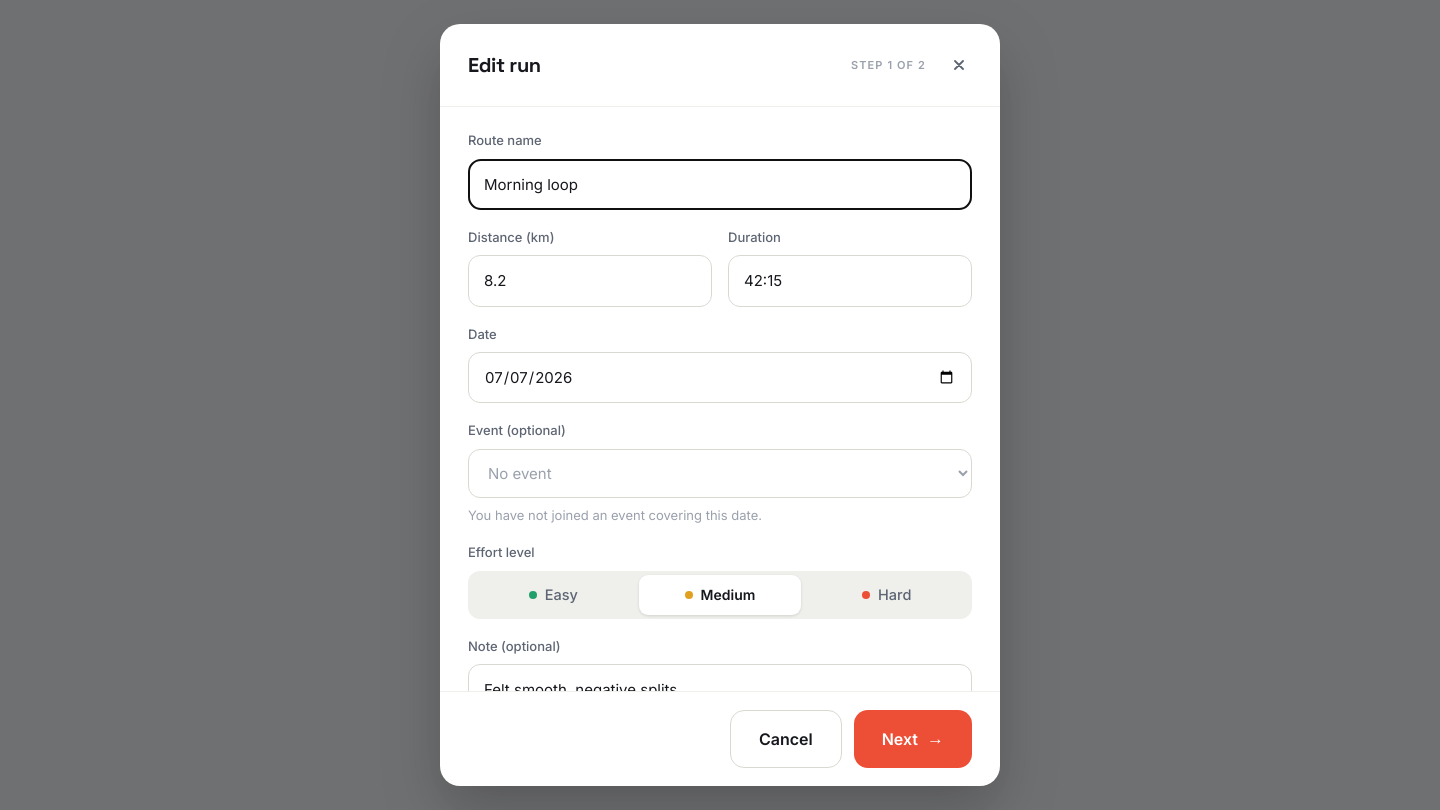
Scenario: Edit run modal (RUN-28) › refuses to save distance 0 and says so inline (AC4, EDT-3)
Replace the text in the field labelled "Distance (km)" with "0" at [590, 281], box [468,255,712,307]
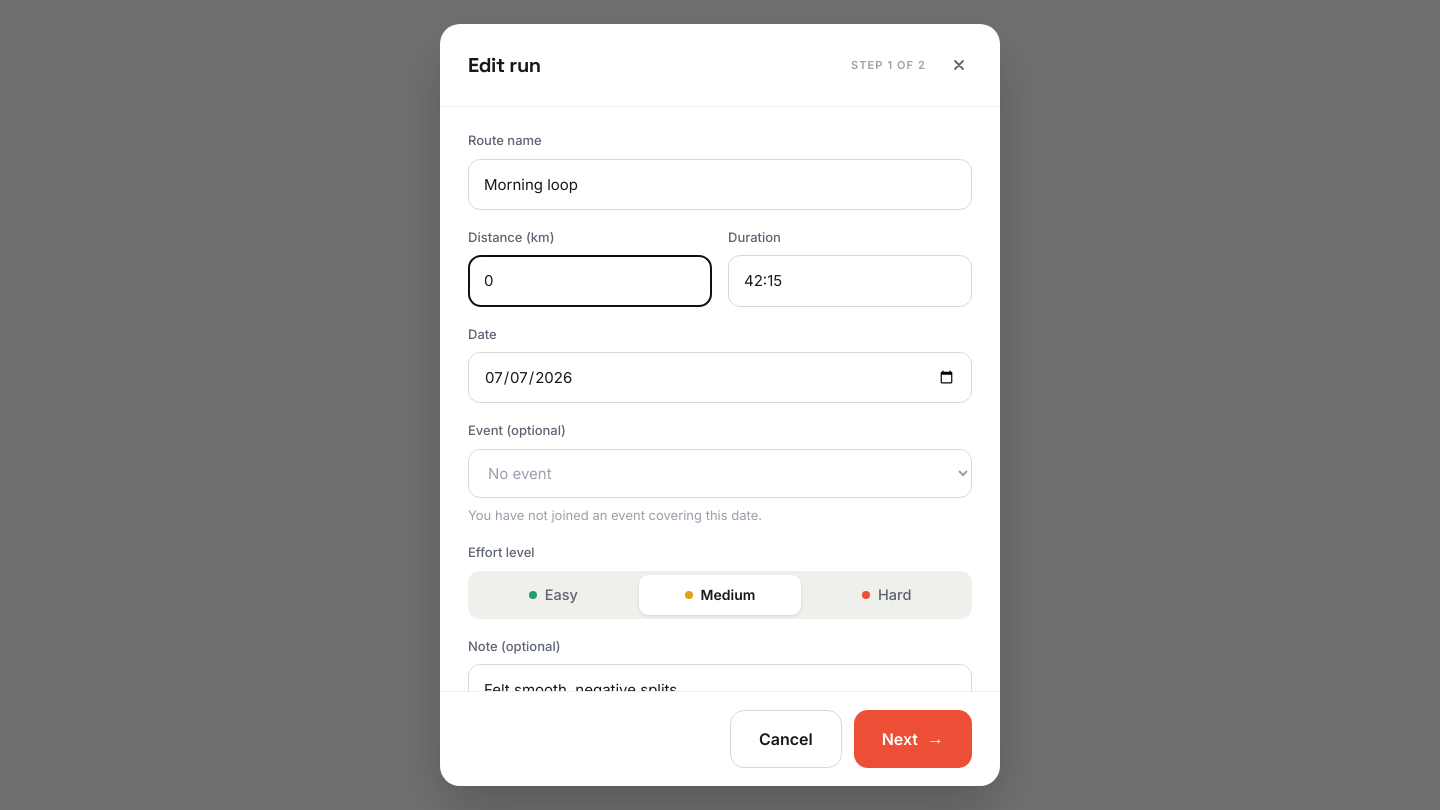
Click the button "Next →" at [913, 739], box [854,710,972,768]
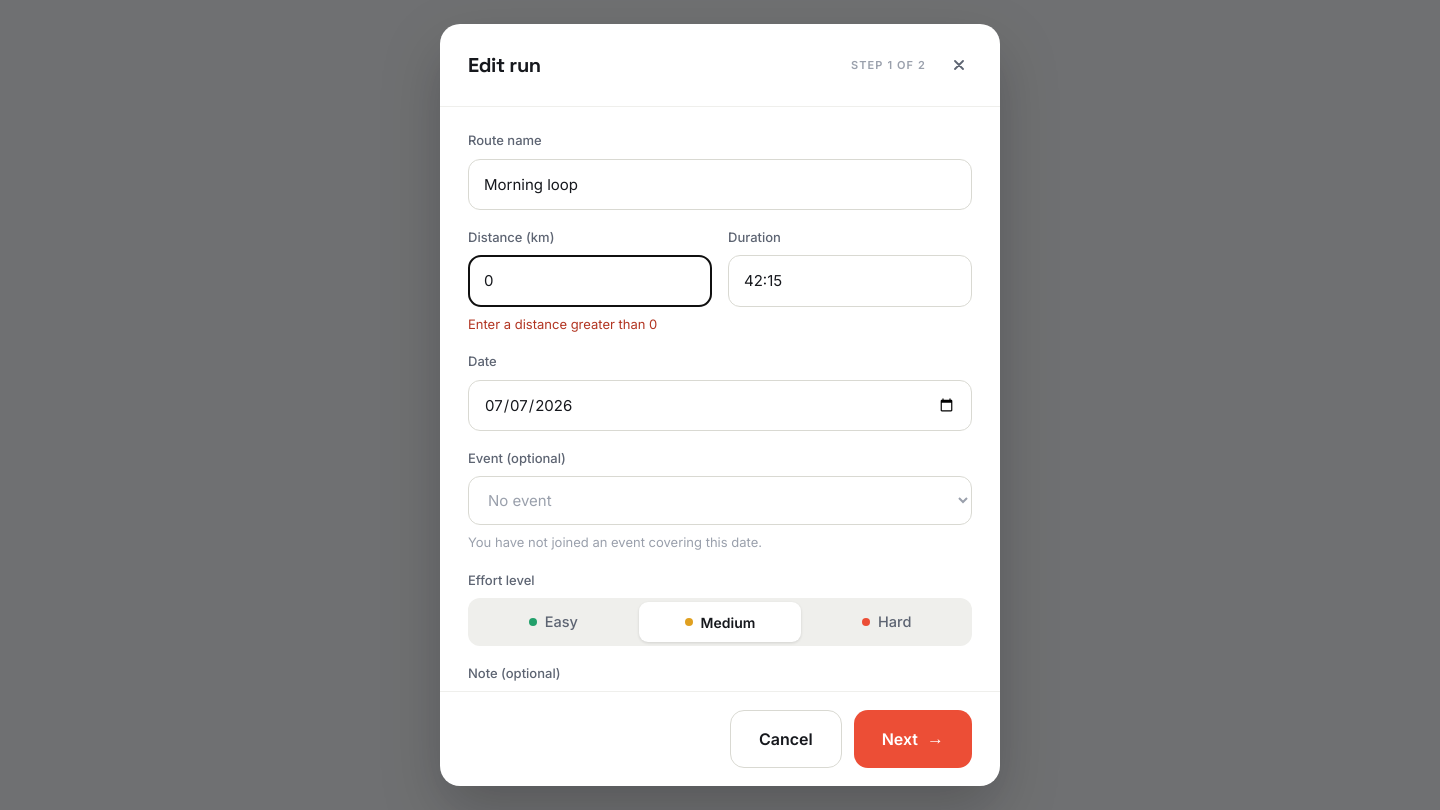
Expected: the message "Enter a distance greater than 0" is shown, [468,316,657,332]
